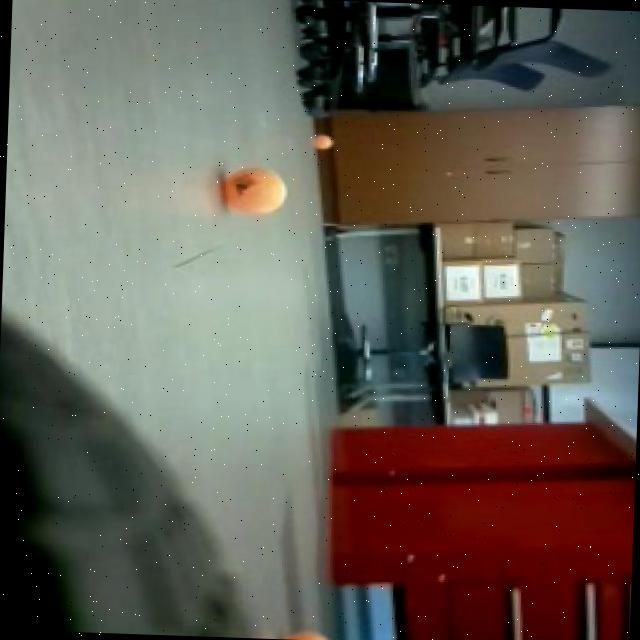ping-pong-ball: (208, 157, 298, 226), (265, 627, 335, 640), (307, 130, 338, 154)
